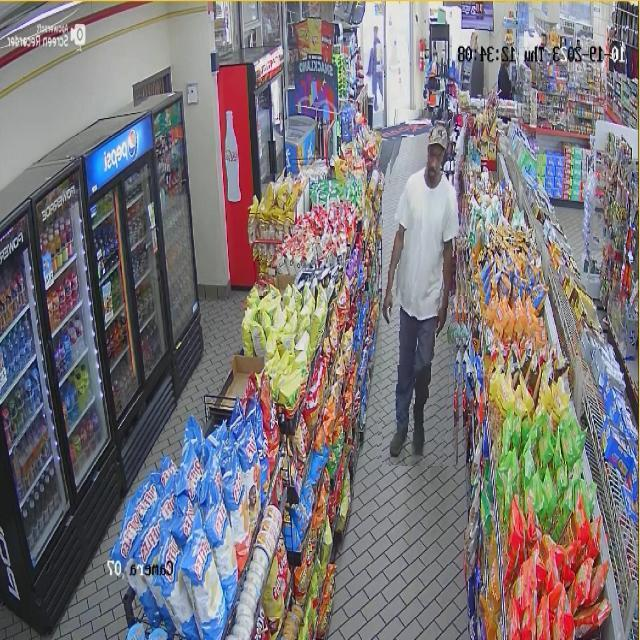Normal: (382, 110, 468, 466)
